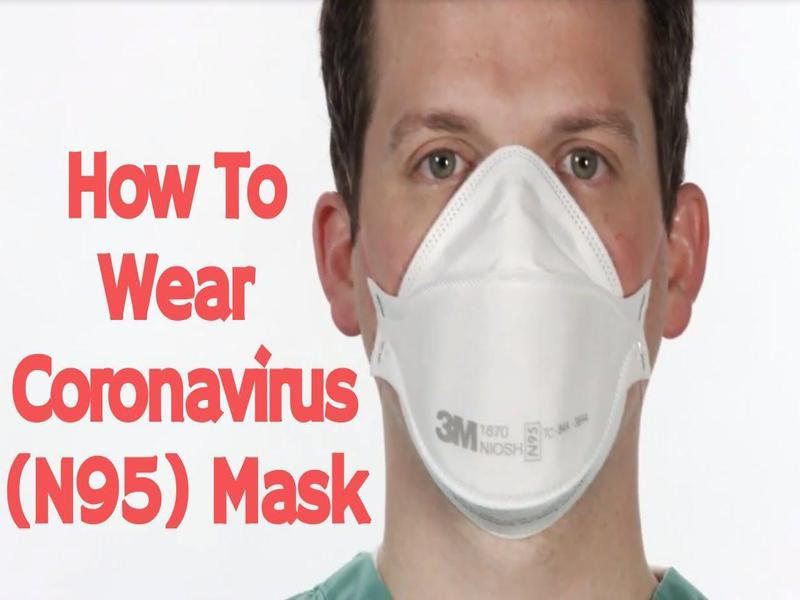with_mask: (360, 1, 669, 543)
